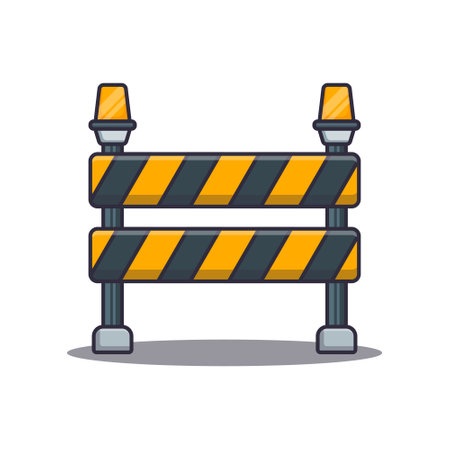Barrier: (67, 74, 379, 383)
